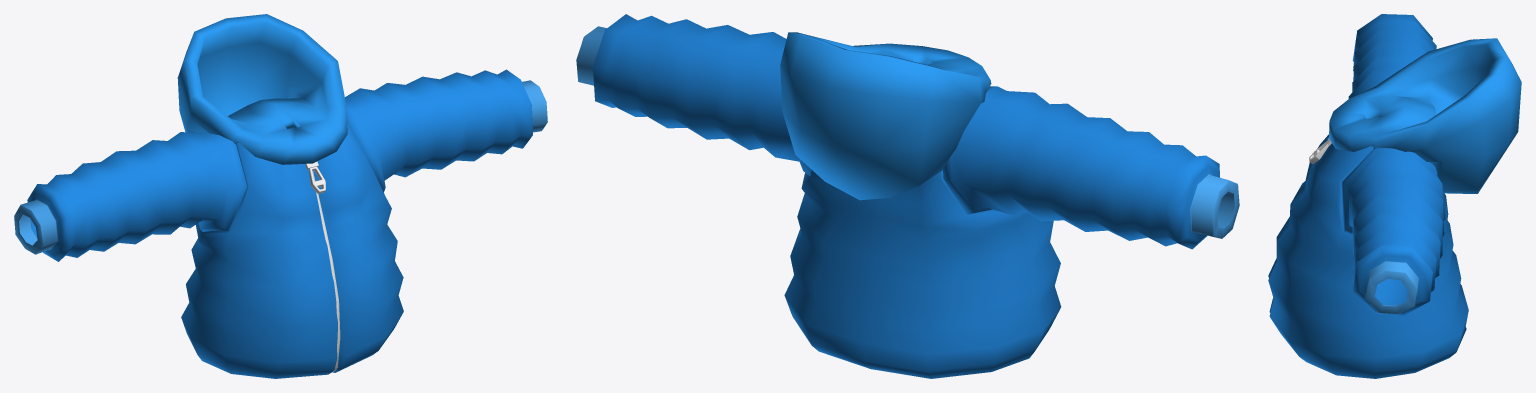
File: Outerwear_Blue_009.glb
The picture shows the model from 3 angles, left to right: view 1: azimuth 30°, elevation 25°; view 2: azimuth 150°, elevation 25°; view 3: azimuth 270°, elevation 25°; orthographic projection. The views are drawn at different scales.
Parts seen in each view (by area): view 1: Outerwear_Blue_009; view 2: Outerwear_Blue_009; view 3: Outerwear_Blue_009.
Boxes of the visible parts, x1,y1,x2,y2 form: Outerwear_Blue_009: (14,14,547,378); Outerwear_Blue_009: (576,14,1239,378); Outerwear_Blue_009: (1268,14,1521,378).
Size of the model in its own units: 1.3 by 0.677 by 0.5446.
1 material, 1 textured.
